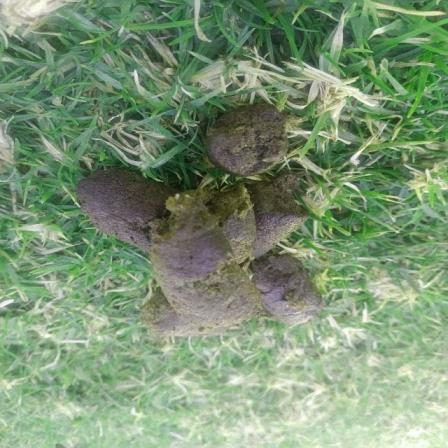dog-poop: (76, 95, 320, 347)
